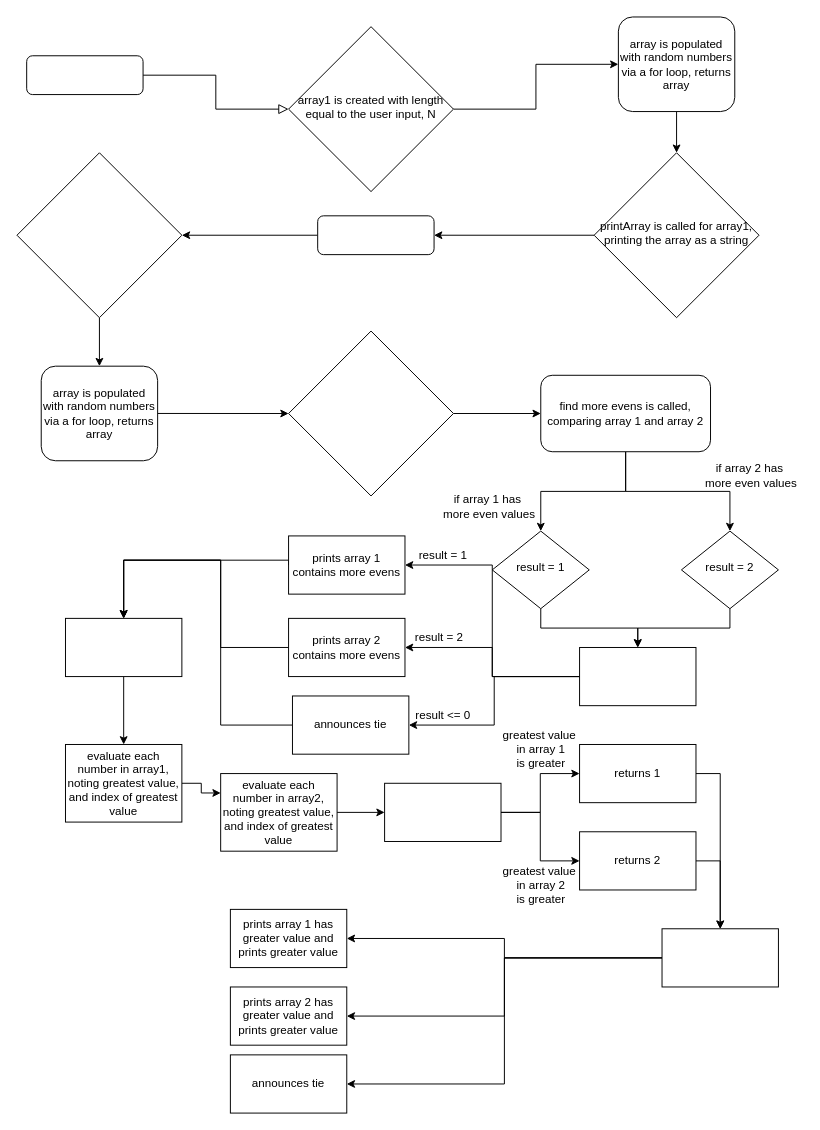
The diagram is 820 pixels wide and 1130 high, and some of its shapes have lost their labels. The centre of each missing label's shape, as x and y in pixels:
array2 is created with length equal to the user input, N: the point at 99,235
compare greatest value in array1 to greatest value in array 2: the point at 442,811
constructArray is called for array 1: the point at 84,75
constructArray is called for array 2: the point at 375,235
find greatest is called, comparing array 1 and array 2: the point at 123,647
printArray is called for array2, printing the array as a string: the point at 370,413
res = returned value: the point at 719,957
return result: the point at 637,676
